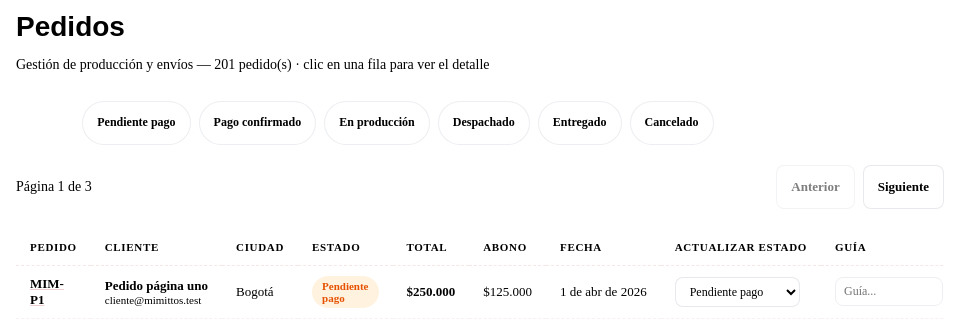
PedidosAdminPage pagination › keeps filtered page metadata when an obsolete page response resolves
Expected: the row with test id "order-row-MIM-P1" is shown, [16, 265, 944, 318]
Click the button with aria-label "Página siguiente" at (903, 187), box [863, 165, 944, 209]
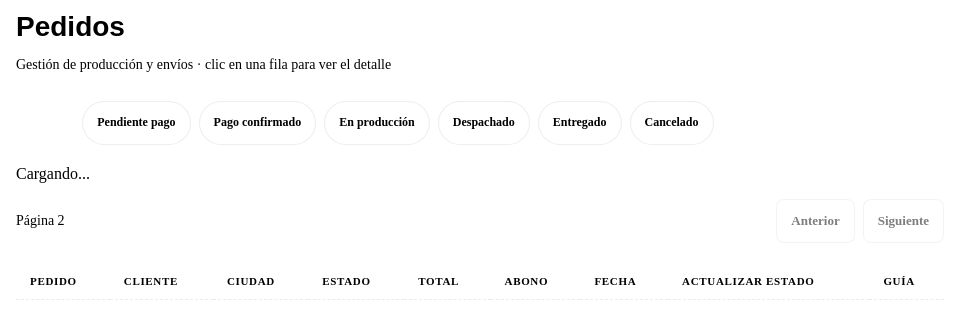
Click the button "En producción" at (377, 123), box [324, 101, 430, 145]
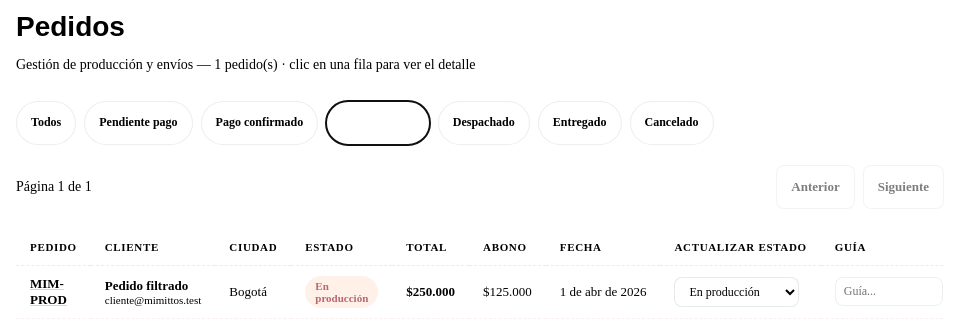
Now the row with test id "order-row-MIM-PROD" shows "Pedido filtrado", box [105, 278, 188, 293]
Now the text "— 1 pedido(s)" is shown, box [193, 57, 278, 72]
Now the text "Página 1 de 1" is shown, box [16, 179, 92, 195]
